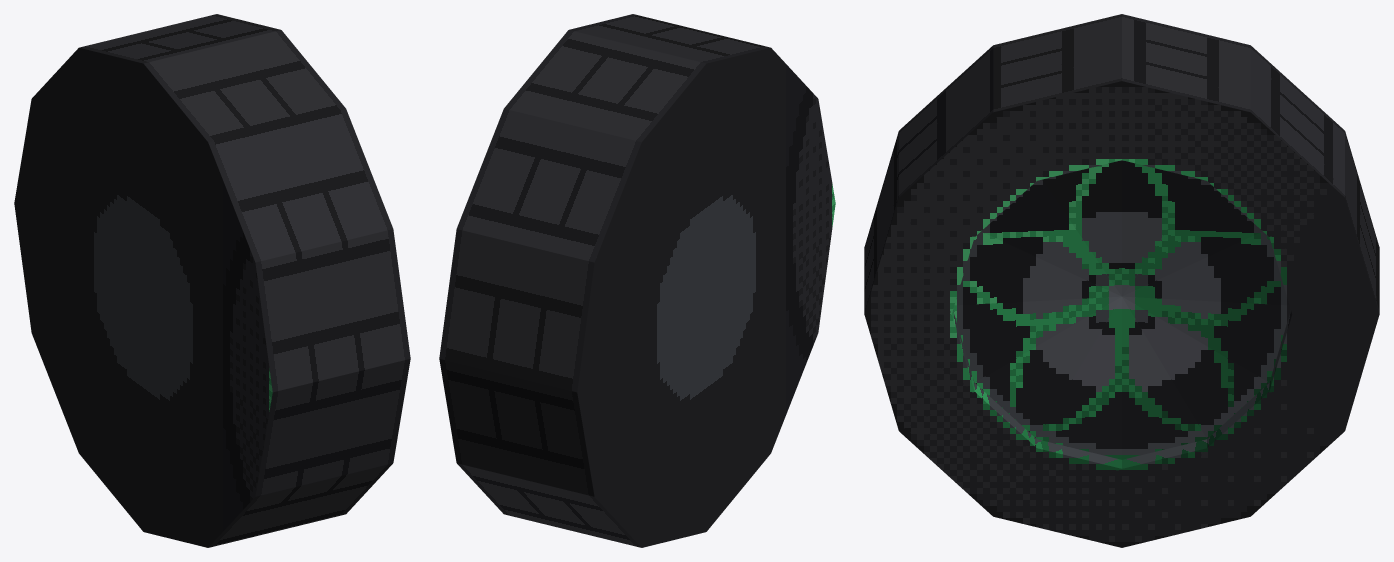
File: wheel_ysp.glb
The picture shows the model from 3 angles, left to right: view 1: azimuth 30°, elevation 25°; view 2: azimuth 150°, elevation 25°; view 3: azimuth 270°, elevation 25°; orthographic projection.
Parts seen in each view (by area): view 1: wheel_ysp; view 2: wheel_ysp; view 3: wheel_ysp.
Part boxes in pixels (box(x1,y1,x2,y2)): wheel_ysp: box(14, 14, 410, 547); wheel_ysp: box(439, 14, 835, 547); wheel_ysp: box(864, 14, 1379, 547).
Bounding box in the file's own units: 0.225 × 0.7301 × 0.7301.
1 material, 1 textured.
